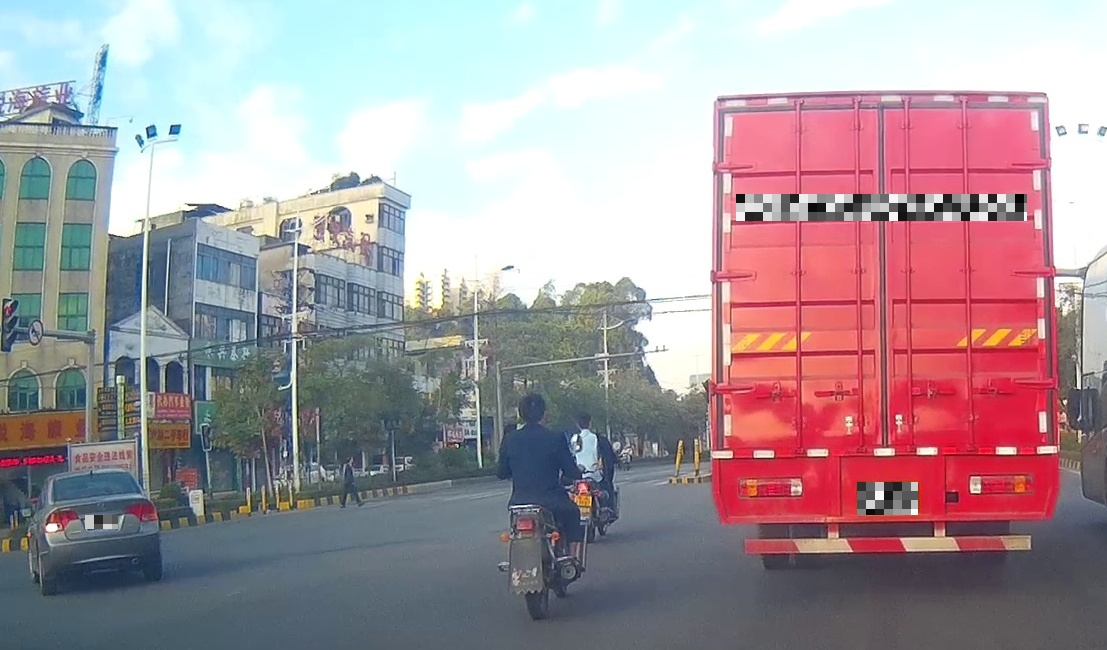L_light: (738, 477, 803, 497), (44, 508, 79, 533)
R_light: (968, 474, 1034, 494), (122, 501, 159, 521)
T_light: (857, 108, 905, 126), (81, 470, 102, 478)
day-left: (44, 466, 162, 596)
day-no: (709, 89, 1060, 571)
plate_1: (85, 515, 118, 529)
plate_2: (736, 194, 1027, 221)
plate_3: (857, 482, 918, 515)
